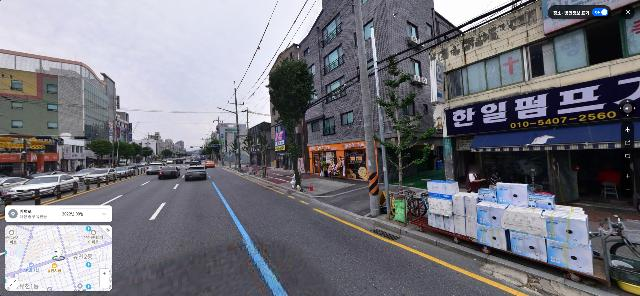other: (378, 59, 436, 191), (264, 52, 312, 184), (88, 137, 111, 168)
